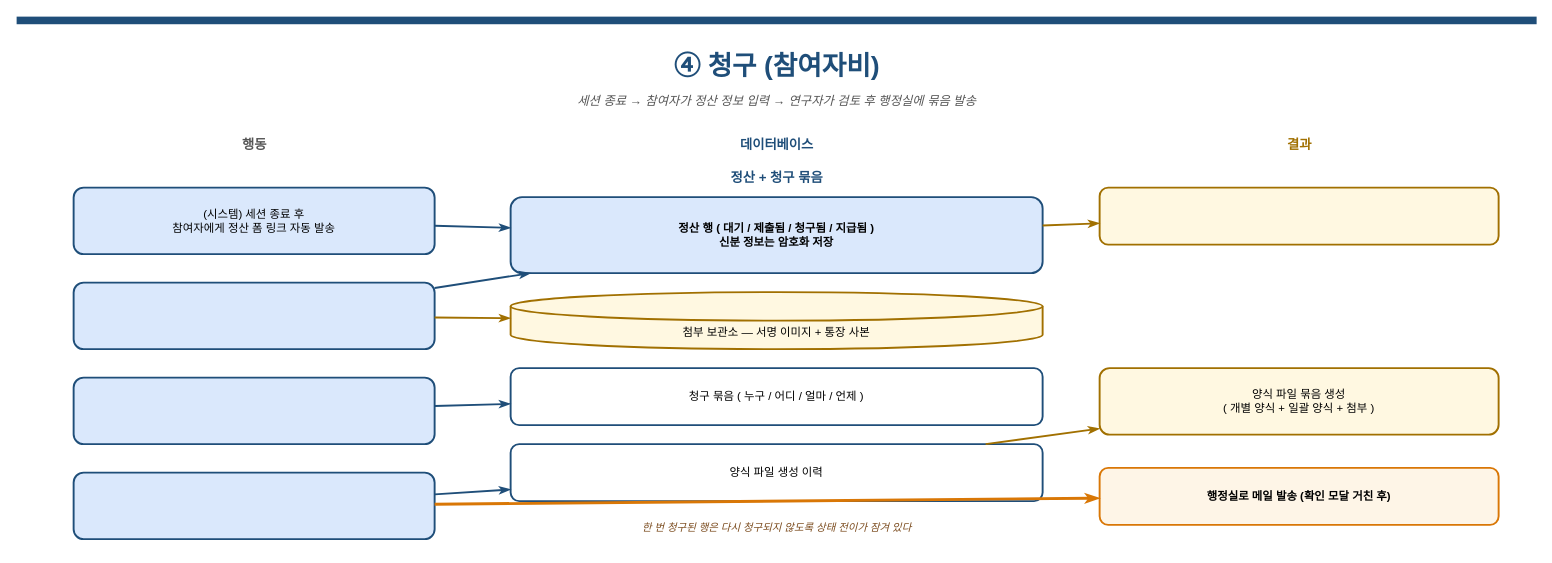
This 1552x563 diagram has some shape labels left out. Here are the shapes that lost their labels. From the top down, the box of each, then its label:
(1098, 186, 1499, 245): 폼 링크의 만료 시한 부여 (보통 60일)
(72, 281, 435, 350): 참여자가 정산 폼 작성 ( 신분 · 계좌 · 서명 · 통장 )
(72, 376, 435, 445): 연구자가 정산 내역 검토 → 청구 묶음 생성
(72, 471, 435, 540): 발송 미리보기 확인 → 발송 버튼 확정
